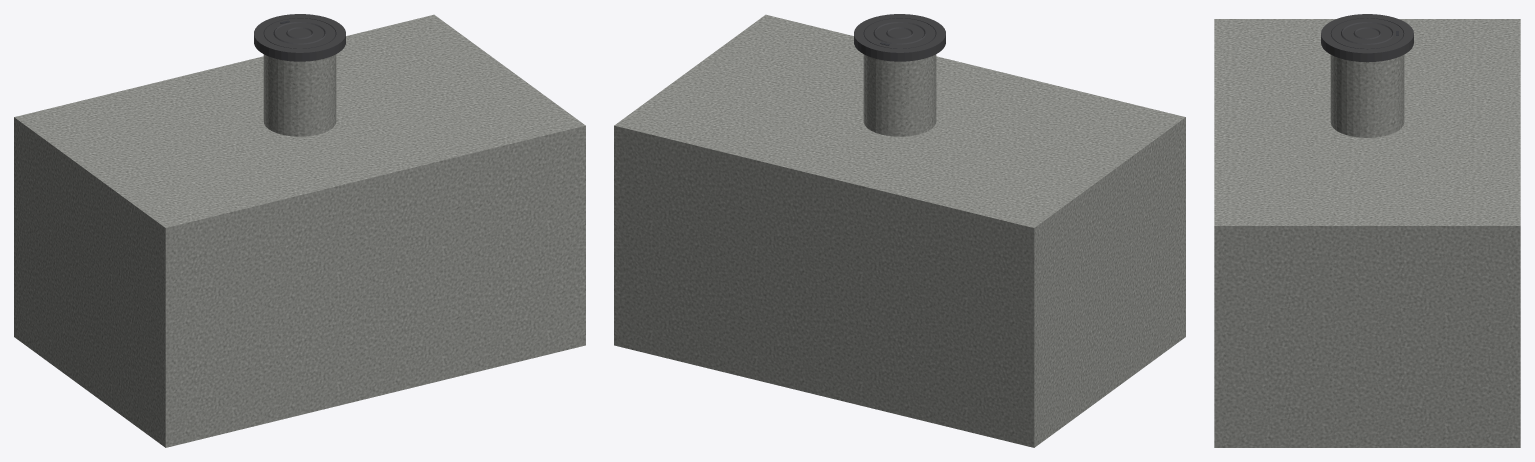
3 renders of one model, left to right at view 1: azimuth 30°, elevation 25°; view 2: azimuth 150°, elevation 25°; view 3: azimuth 270°, elevation 25°, orthographic.
Visible parts, largest first — view 1: accessShaft=true;coverDepth=0.8;height=2;installation=underg (×2); view 2: accessShaft=true;coverDepth=0.8;height=2;installation=underg (×2); view 3: accessShaft=true;coverDepth=0.8;height=2;installation=underg (×2).
Boxes of the visible parts, <box> form: accessShaft=true;coverDepth=0.8;height=2;installation=underg (×2): <box>14,14,585,447</box>; accessShaft=true;coverDepth=0.8;height=2;installation=underg (×2): <box>614,14,1185,447</box>; accessShaft=true;coverDepth=0.8;height=2;installation=underg (×2): <box>1214,14,1520,447</box>.
Size of the model in its own units: 4 by 2.5 by 2.81.
3 materials, 1 textured.
